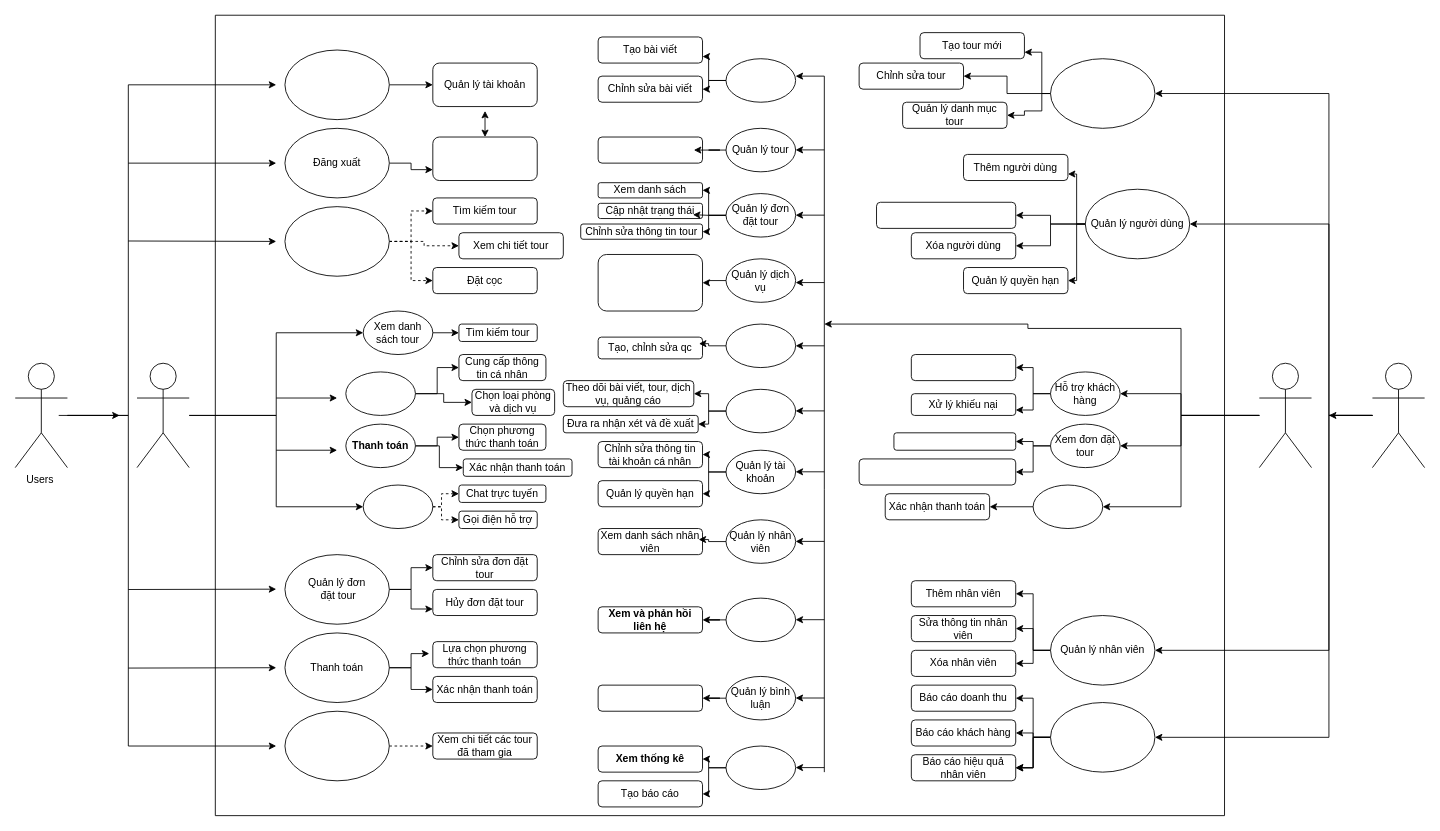
The diagram is 1440 pixels wide and 831 high, and some of its shapes have lost their labels. Each missing label, with the centre of its shape:
"Admin" belongs at [1398,415].
"Customer" belongs at [162,415].
"Cập nhật trạng thái đơn đặt tour" belongs at [937,471].
"Employee" belongs at [1285,415].
"Khôi phục mật khẩu" belongs at [484,158].
"Liên hệ hỗ trợ" belongs at [397,506].
"Quản lý bài viết" belongs at [760,80].
"Quản lý chung" belongs at [760,410].
"Quản lý liên hệ" belongs at [760,619].
"Quản lý quảng cáo" belongs at [760,345].
"Quản lý thống kê" belongs at [760,767].
"Quản lý tour du lịch" belongs at [1102,93].
"Sửa thông tin người dùng" belongs at [946,214].
"Thêm, sửa dịch vụ: hướng dẫn viên, xe đưa đón, bảo hiểm du lịch, giá cả" belongs at [650,282].
"Tư vấn tour" belongs at [963,367].
"Tạo, chỉnh sửa tour" belongs at [650,149].
"Xem báo cáo" belongs at [1102,737].
"Xem bình luận" belongs at [650,697].
"Xem lịch sử đặt tour" belongs at [336,745].
"Xem và đặt tour" belongs at [336,241].
"Xác nhận đơn đặt tour" belongs at [954,441].
"Xử lý thanh toán" belongs at [1067,506].
"Đăng nhập" belongs at [336,84].
"Đặt tour" belongs at [380,393].
